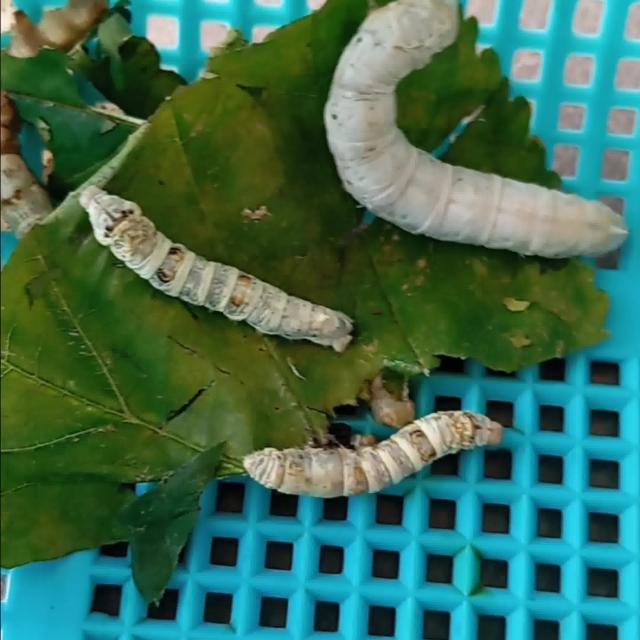Grasserie: (311, 3, 640, 278), (51, 188, 356, 372), (225, 385, 522, 505)
